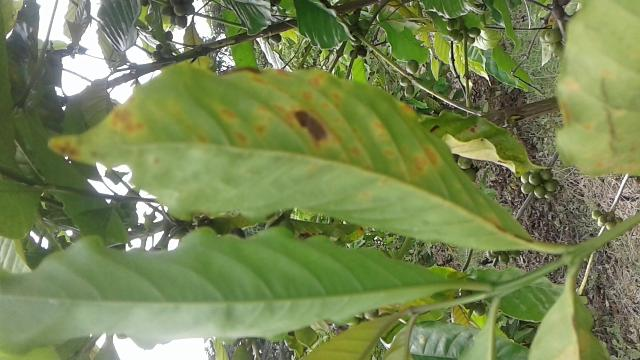rust_level_4: (50, 67, 532, 252)
